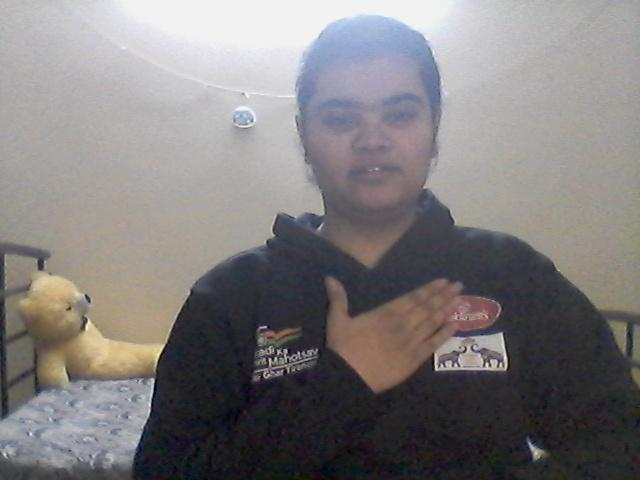please: (306, 265, 473, 396)
